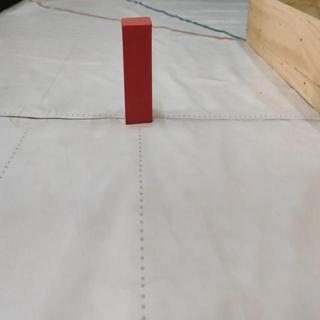redbox: (122, 17, 154, 125)
